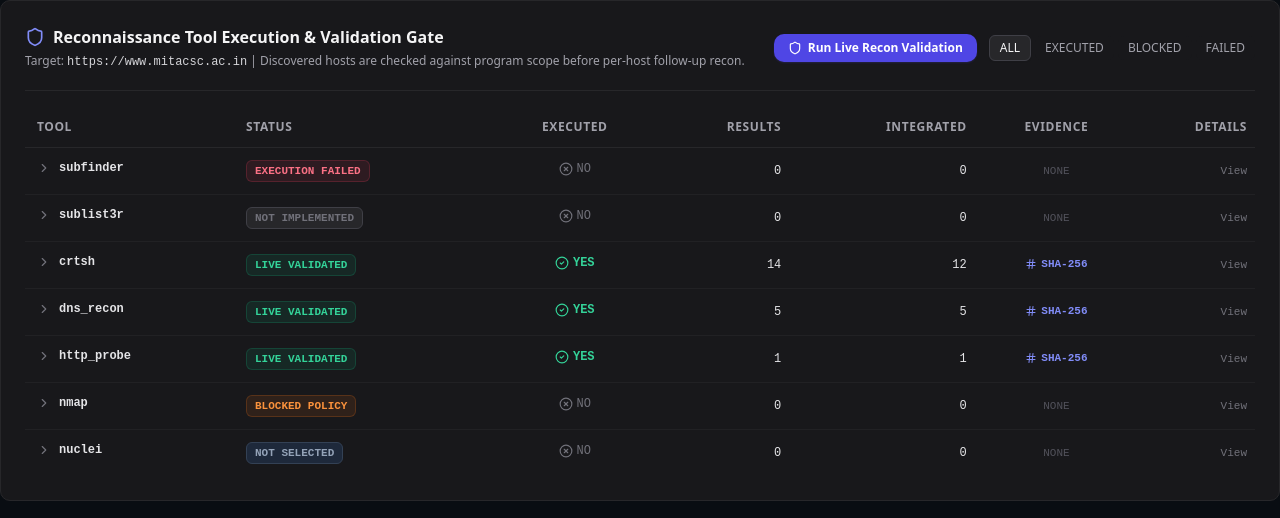
it: ReconToolExecutionPanel UI Component › filters tools by EXECUTED, BLOCKED, and FAILED tabs
Click EXECUTED filter
Click the button "EXECUTED" at (1074, 48), box [1035, 36, 1114, 60]
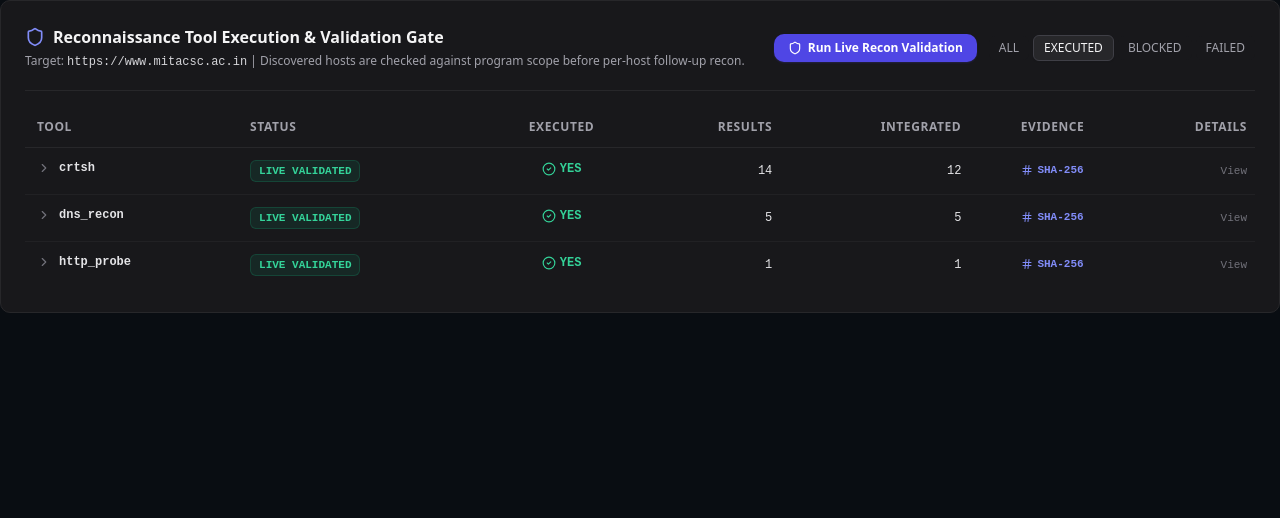
Check: the text "crtsh" is shown, box [59, 160, 95, 176]
Check: the text "sublist3r" is gone
Click BLOCKED filter
Click the button "BLOCKED" at (1155, 48), box [1118, 36, 1192, 60]
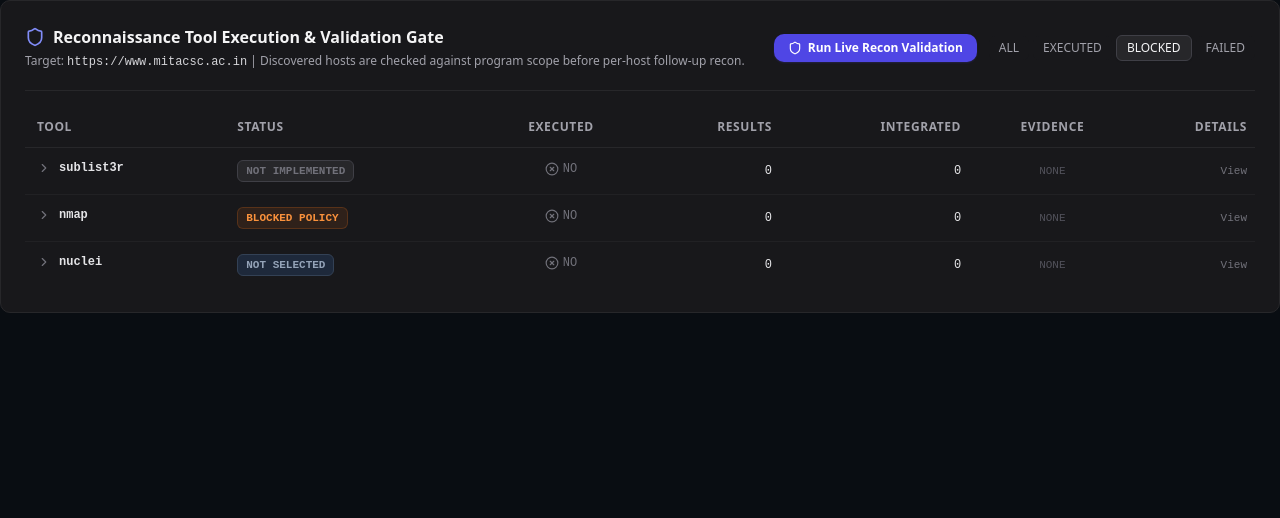
Check: the text "sublist3r" is shown, box [59, 160, 124, 176]
Check: the text "nmap" is shown, box [59, 207, 88, 223]
Check: the text "crtsh" is gone
Click FAILED filter
Click the button "FAILED" at (1225, 48), box [1196, 36, 1255, 60]
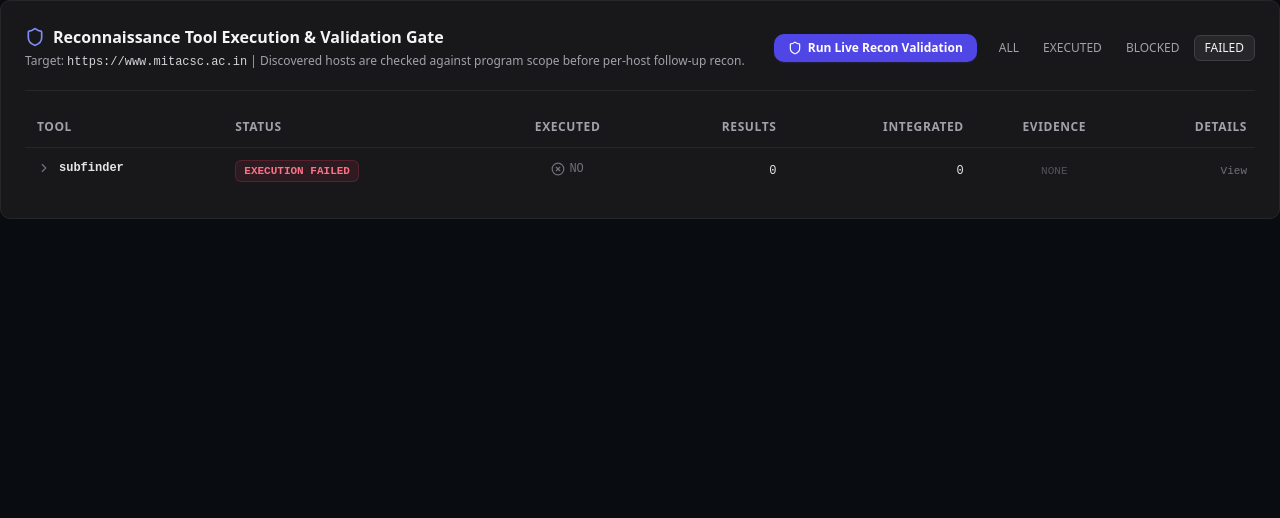
Check: the text "crtsh" is not shown
Check: the text "subfinder" is shown, box [59, 160, 124, 176]
